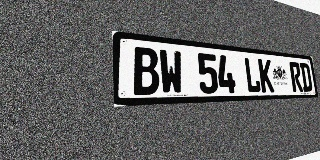4: (216, 55, 236, 93)
5: (197, 53, 219, 94)
B: (132, 46, 160, 95)
D: (299, 63, 313, 92)
K: (258, 59, 274, 92)
L: (244, 57, 261, 93)
R: (289, 62, 303, 92)
W: (159, 49, 184, 95)
